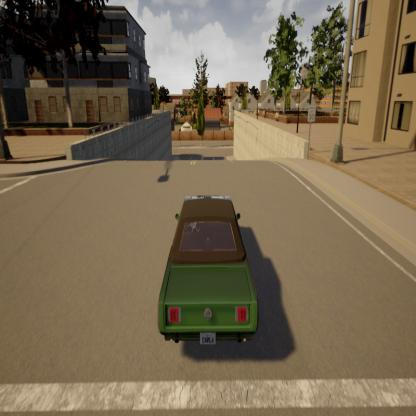Cars: (148, 158, 266, 384)
